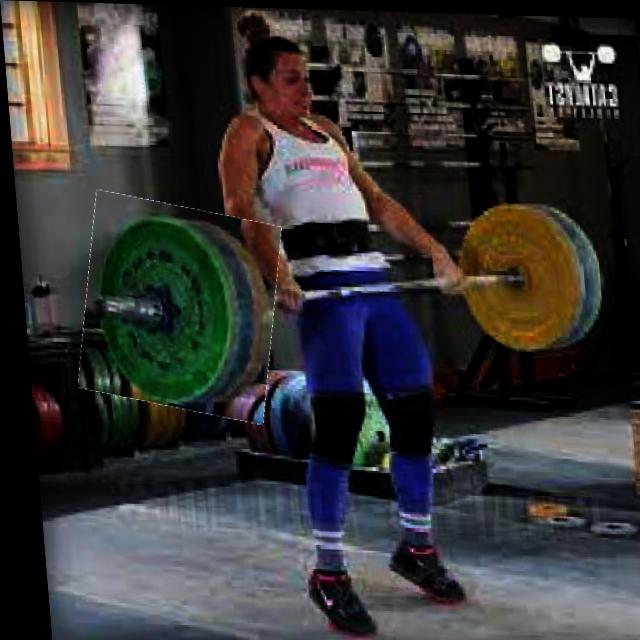barbell: (69, 197, 283, 418)
